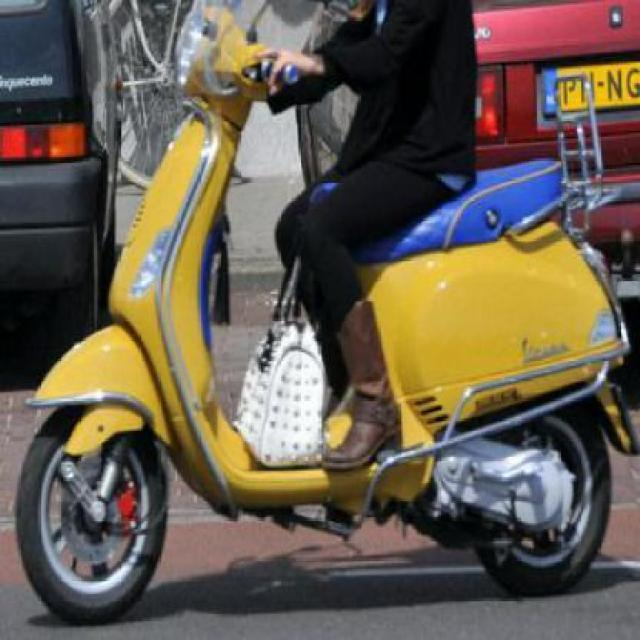motorbike: (11, 0, 638, 638)
